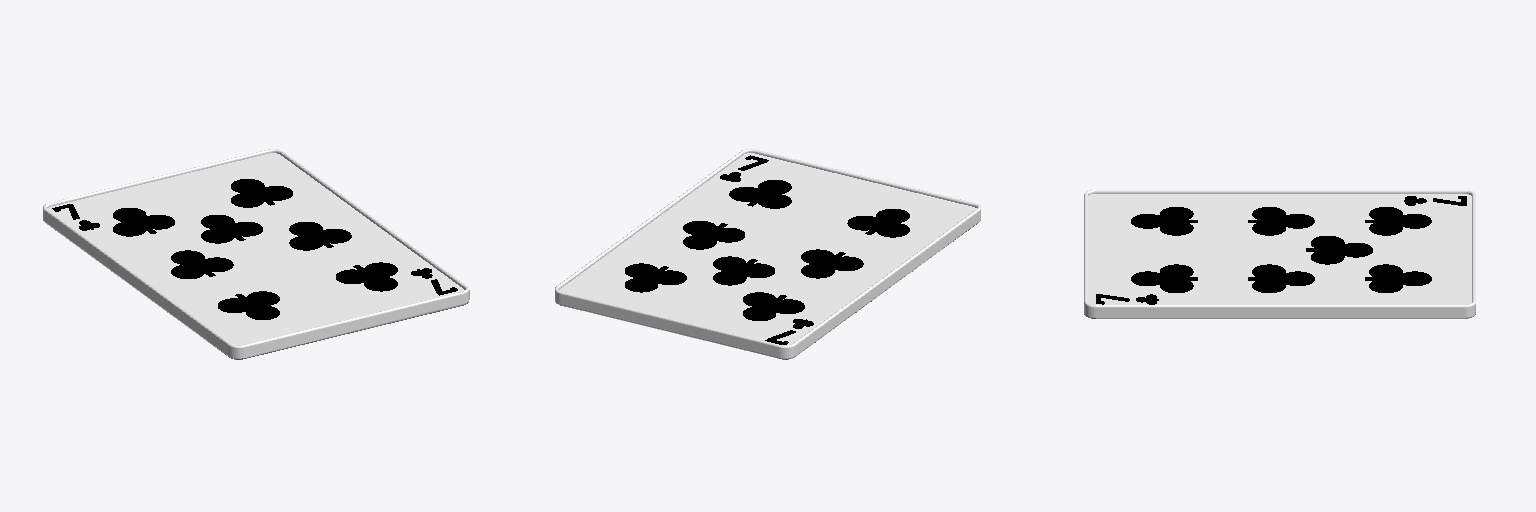
The model's file is clubs_7.obj.
The picture shows the model from 3 angles: view 1: azimuth 30°, elevation 25°; view 2: azimuth 150°, elevation 25°; view 3: azimuth 270°, elevation 25°; orthographic projection.
Visible parts, largest first — view 1: rect4266.006, rect4266.060, path3979-1-6-1-52.003, path3979-1-6-1-7-1-1.003, path3979-1-6-1-1.003, path3979-1-6-1.006, path3979-1-6-1-7.002, path3979-1-6-1-7-1-5.005, path3979-1-6-1-52-3.001, rect4266.110; view 2: rect4266.006, rect4266.060, path3979-1-6-1.006, path3979-1-6-1-1.003, path3979-1-6-1-7.002, path3979-1-6-1-7-1-1.003, path3979-1-6-1-52.003, path3979-1-6-1-52-3.001, path3979-1-6-1-7-1-5.005; view 3: rect4266.006, rect4266.060, path3979-1-6-1-7-1-5.005, path3979-1-6-1-1.003, path3979-1-6-1.006, path3979-1-6-1-7.002, path3979-1-6-1-52.003, path3979-1-6-1-52-3.001, path3979-1-6-1-7-1-1.003.
Part boxes in pixels (x1,y1,x2,y2): rect4266.006: (47,153,464,344); rect4266.060: (43,149,469,358); path3979-1-6-1-52.003: (231,179,292,207); path3979-1-6-1-7-1-1.003: (336,262,397,291); path3979-1-6-1-1.003: (171,250,233,278); path3979-1-6-1.006: (113,208,174,236); path3979-1-6-1-7.002: (201,215,262,243); path3979-1-6-1-7-1-5.005: (218,291,279,319); path3979-1-6-1-52-3.001: (289,222,351,250); rect4266.110: (46,223,468,359); rect4266.006: (559,153,976,344); rect4266.060: (555,149,980,358); path3979-1-6-1.006: (743,292,804,320); path3979-1-6-1-1.003: (801,249,863,278); path3979-1-6-1-7.002: (713,256,774,285); path3979-1-6-1-7-1-1.003: (729,180,791,208); path3979-1-6-1-52.003: (625,263,686,292); path3979-1-6-1-52-3.001: (683,221,744,249); path3979-1-6-1-7-1-5.005: (847,209,909,237); rect4266.006: (1088,194,1471,304); rect4266.060: (1084,190,1475,318); path3979-1-6-1-7-1-5.005: (1131,207,1193,235); path3979-1-6-1-1.003: (1252,207,1314,235); path3979-1-6-1.006: (1369,207,1431,235); path3979-1-6-1-7.002: (1311,236,1372,264); path3979-1-6-1-52.003: (1369,264,1431,292); path3979-1-6-1-52-3.001: (1252,264,1314,292); path3979-1-6-1-7-1-1.003: (1131,264,1193,292).
Bounding box in the file's own units: 2.88 × 0.1966 × 4.08.